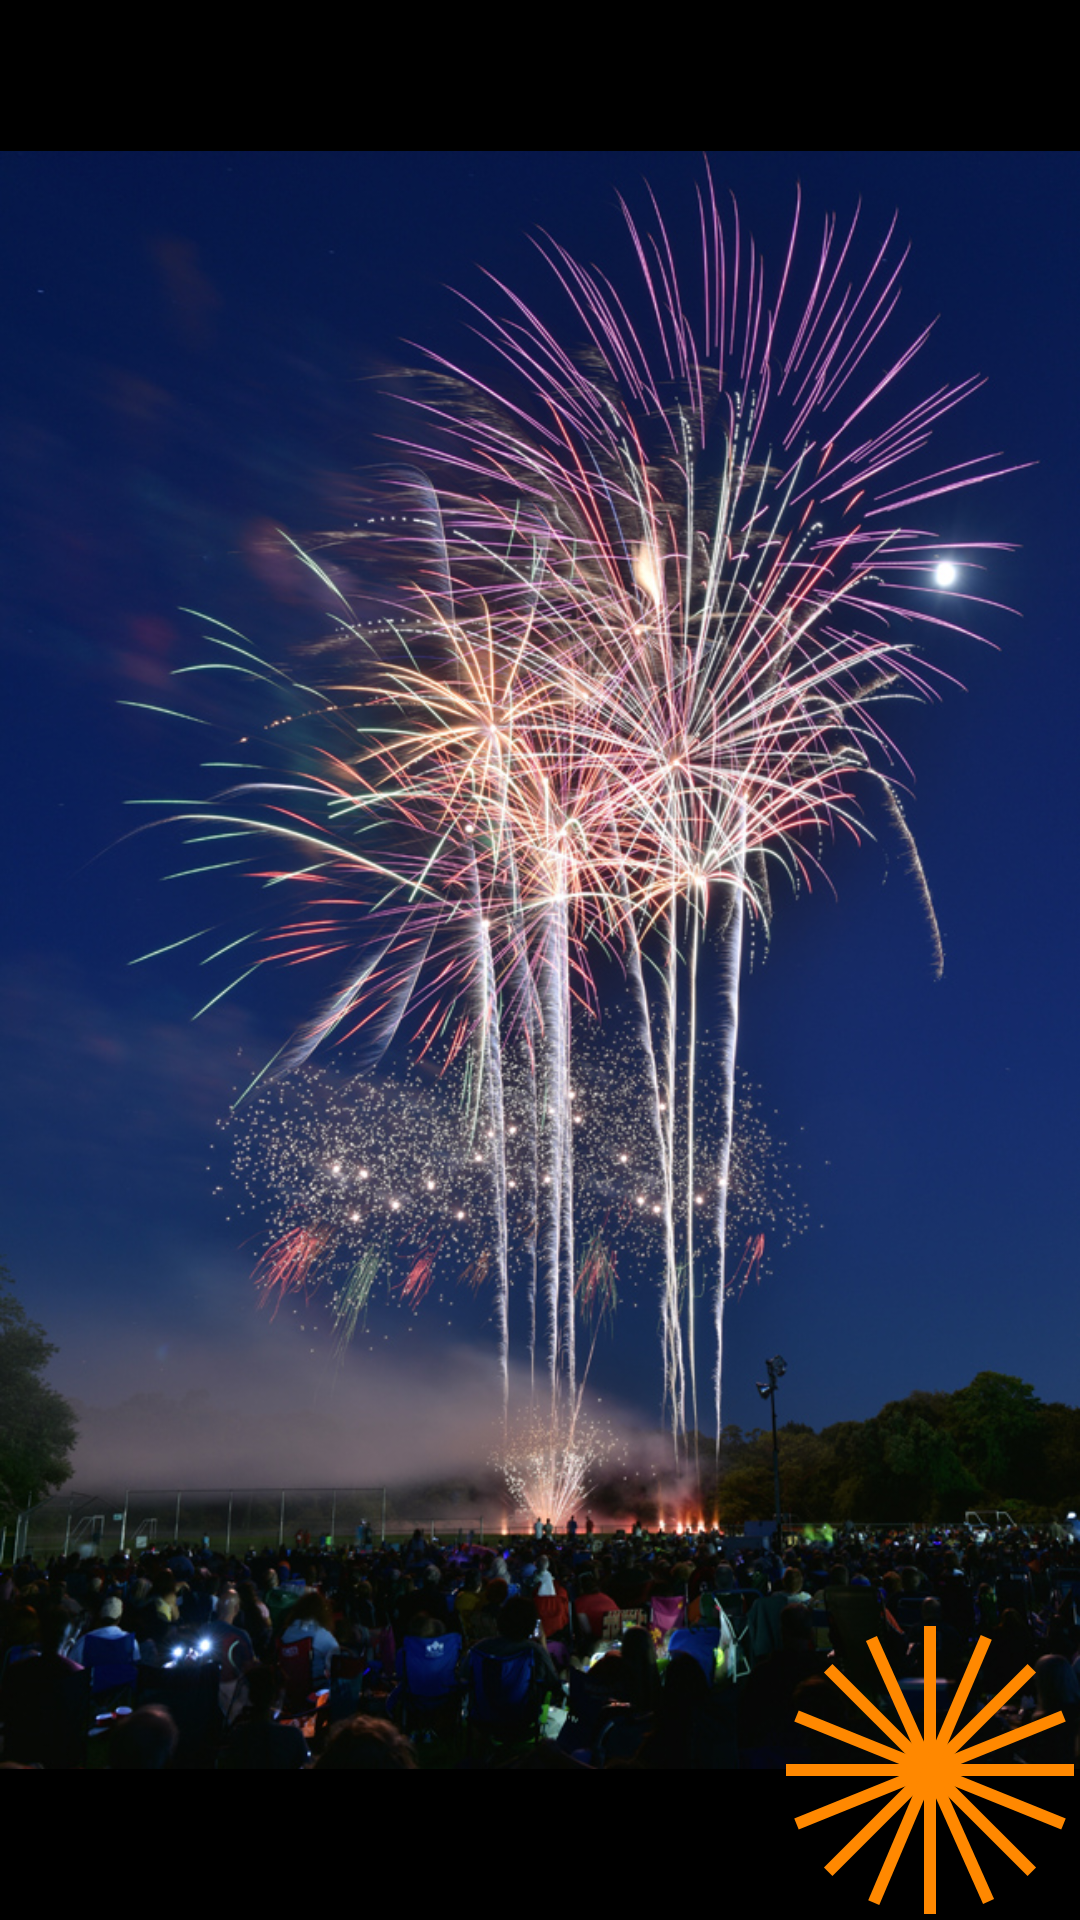

Locate icon controls on the screen. Image size 1080px x 1920px, boxes as {"x1": x1, "y1": y1, "x2": x2, "y2": y2}.
firework: {"x1": 786, "y1": 1620, "x2": 1080, "y2": 1914}
